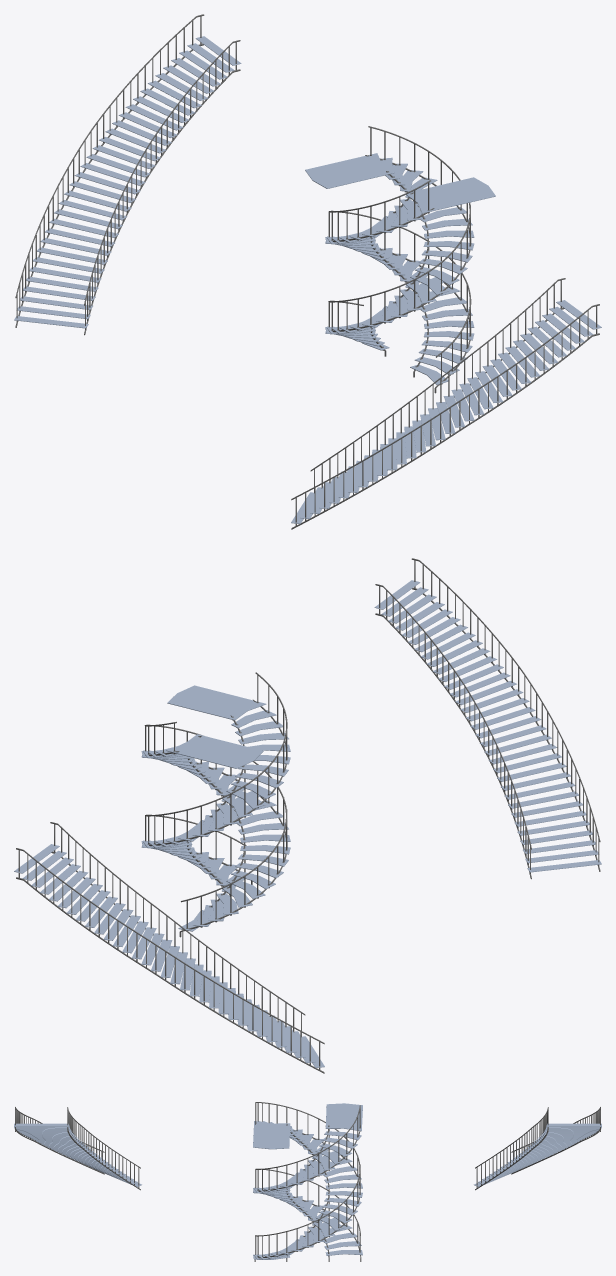
The model's file is stair.fbx.
The picture shows the model from 3 angles, top to bottom: view 1: azimuth 30°, elevation 25°; view 2: azimuth 150°, elevation 25°; view 3: azimuth 270°, elevation 25°; orthographic projection. The views are drawn at different scales.
Visible parts, largest first — view 1: stair_3, stair, stair_2; view 2: stair_3, stair_2, stair; view 3: stair_3, stair_2, stair.
Boxes of the visible parts, x1,y1,x2,y2 form: stair_3: (14, 14, 601, 529); stair: (305, 126, 474, 356); stair_2: (325, 177, 495, 393); stair_3: (14, 558, 601, 1073); stair_2: (141, 672, 290, 896); stair: (141, 721, 290, 937); stair_3: (14, 1107, 601, 1190); stair_2: (253, 1102, 362, 1261); stair: (253, 1103, 362, 1261).
Bounding box in the file's own units: 1448 × 958 × 3201.
